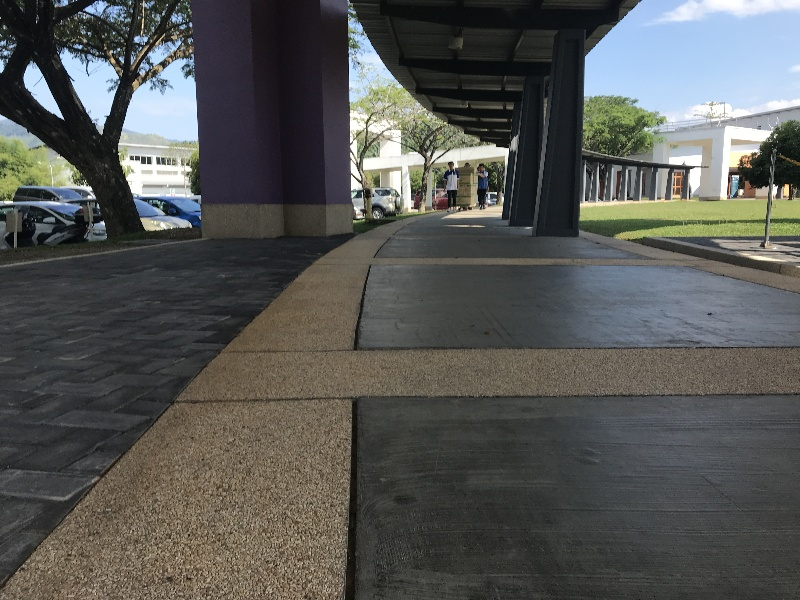Block D corridor: (9, 2, 792, 593)
pillar: (170, 2, 362, 254), (518, 13, 590, 236)
